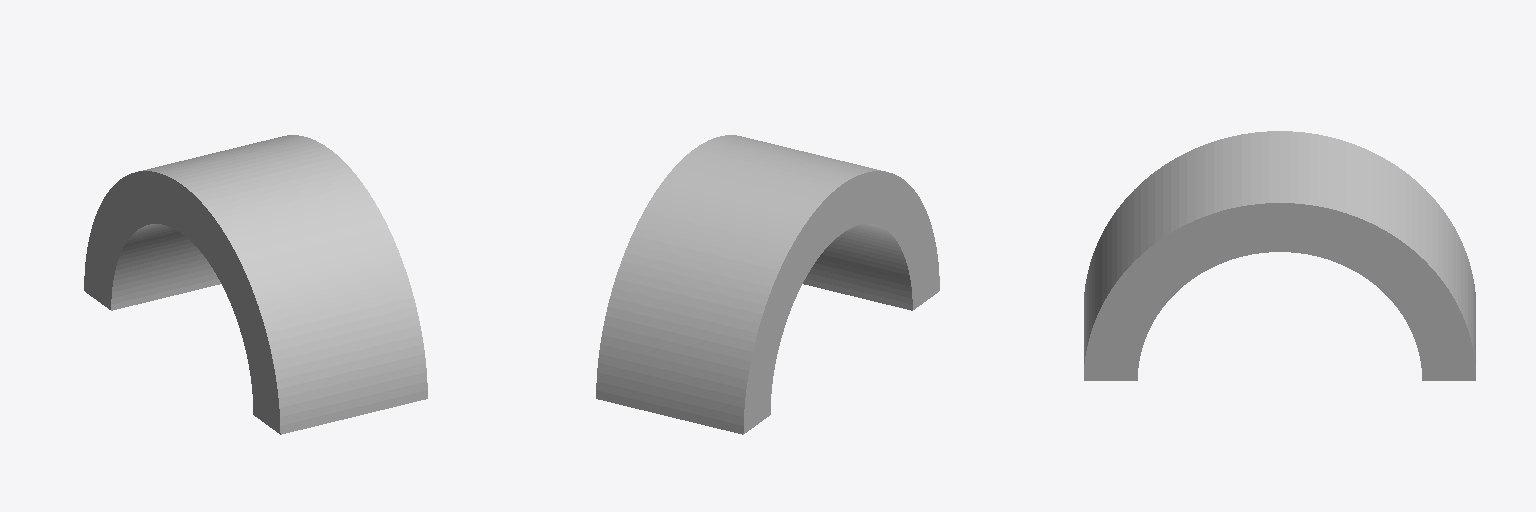
File: schlepp1_2_26__9_1.obj
3 renders of one model, left to right at view 1: azimuth 30°, elevation 25°; view 2: azimuth 150°, elevation 25°; view 3: azimuth 270°, elevation 25°, orthographic.
Parts seen in each view (by area): view 1: 0; view 2: 0; view 3: 0.
Part boxes in pixels (left/top/right/bottom): 0: left=84, top=135, right=427, bottom=434; 0: left=596, top=135, right=939, bottom=434; 0: left=1084, top=131, right=1475, bottom=380.
Bounding box in the file's own units: 201 × 232 × 464.